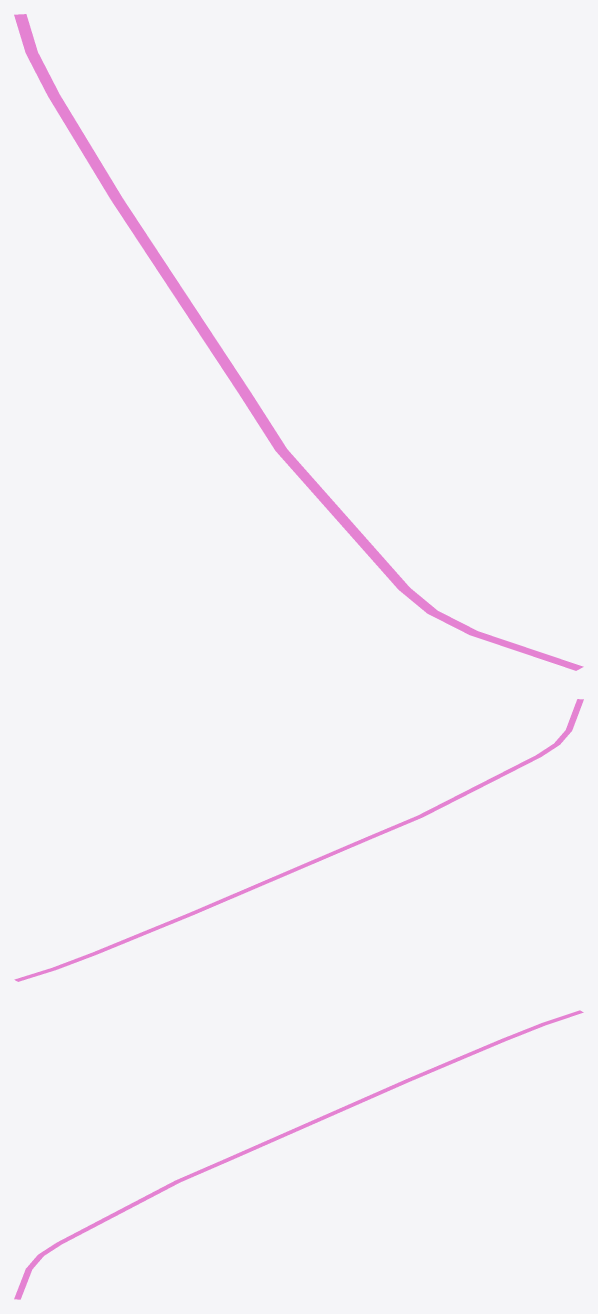
File: route_karja.glb
3 views of the same model, one above another, from view 1: azimuth 30°, elevation 25°; view 2: azimuth 150°, elevation 25°; view 3: azimuth 330°, elevation 25° (orthographic). The views are drawn at different scales.
Parts seen in each view (by area): view 1: Karja; view 2: Karja; view 3: Karja.
Boxes of the visible parts, x1=… form: Karja: x1=14, y1=14, x2=583, y2=670; Karja: x1=14, y1=699, x2=583, y2=981; Karja: x1=14, y1=1010, x2=583, y2=1299.
Bounding box in the file's own units: 35.07 × 0.7535 × 160.
